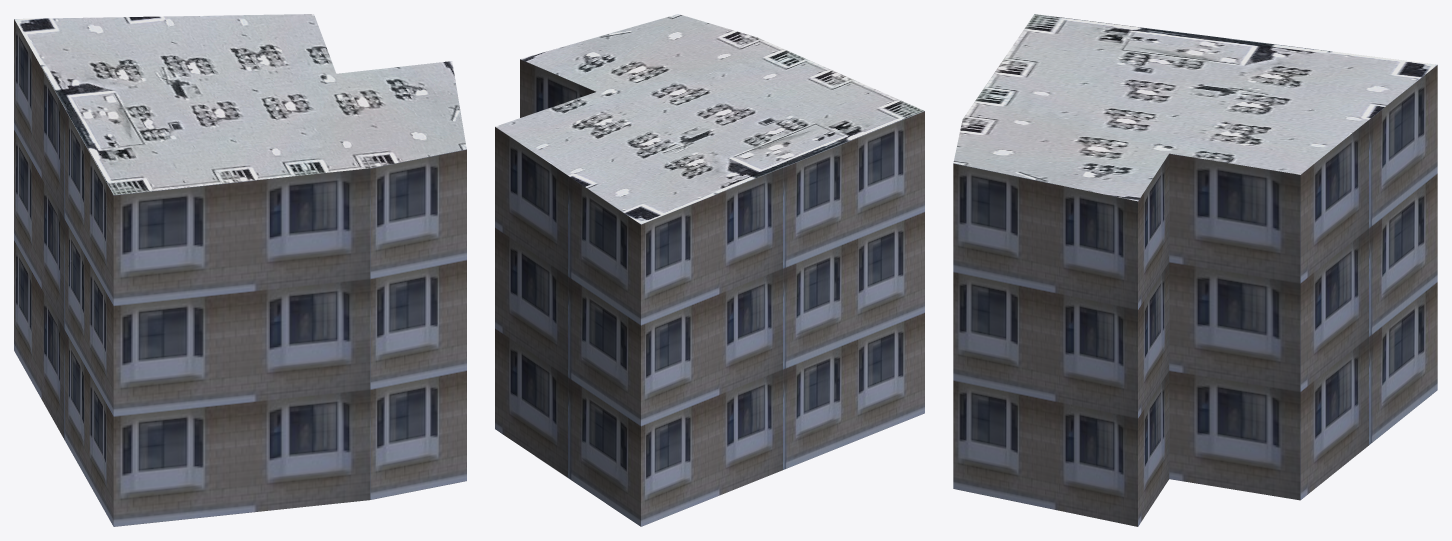
The model's file is ResTex__4054.fbx.
The picture shows the model from 3 angles, left to right: view 1: azimuth 30°, elevation 25°; view 2: azimuth 150°, elevation 25°; view 3: azimuth 270°, elevation 25°; orthographic projection. The views are drawn at different scales.
Visible parts, largest first — view 1: CityEngineMaterial_3_m, CityEngineMaterial_4_m; view 2: CityEngineMaterial_3_m, CityEngineMaterial_4_m; view 3: CityEngineMaterial_3_m, CityEngineMaterial_4_m.
Boxes of the visible parts, x1,y1,x2,y2 form: CityEngineMaterial_3_m: (14,19,466,526); CityEngineMaterial_4_m: (14,14,466,194); CityEngineMaterial_3_m: (495,59,924,526); CityEngineMaterial_4_m: (495,14,924,224); CityEngineMaterial_3_m: (953,65,1437,526); CityEngineMaterial_4_m: (953,14,1436,201).
Bounding box in the file's own units: 11.11 × 9 × 12.13.
2 materials, 2 textured.
